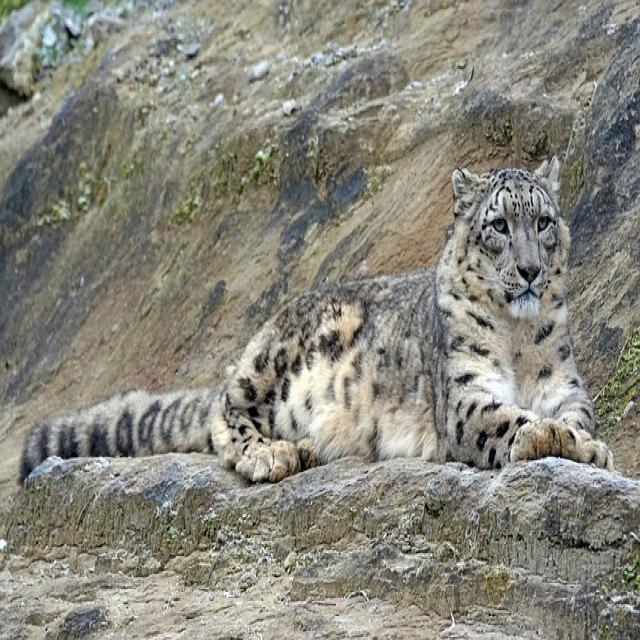Carnivorous: (23, 166, 615, 486)
